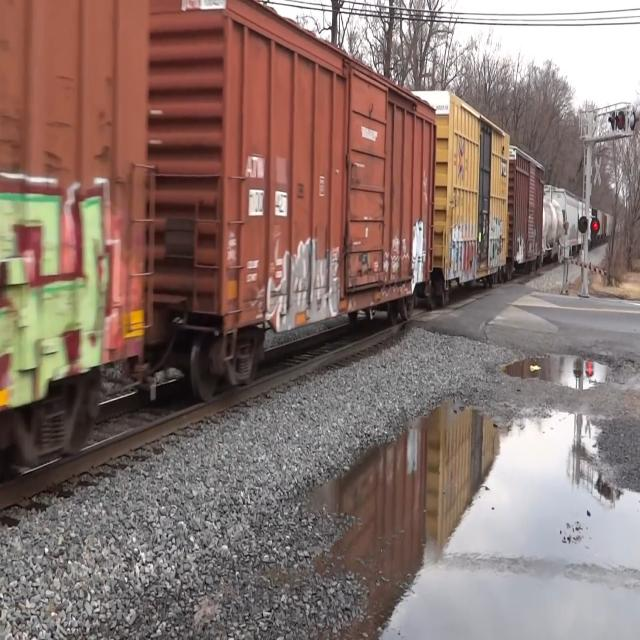boxcar: (155, 0, 440, 387), (0, 3, 160, 520), (431, 91, 509, 311)
